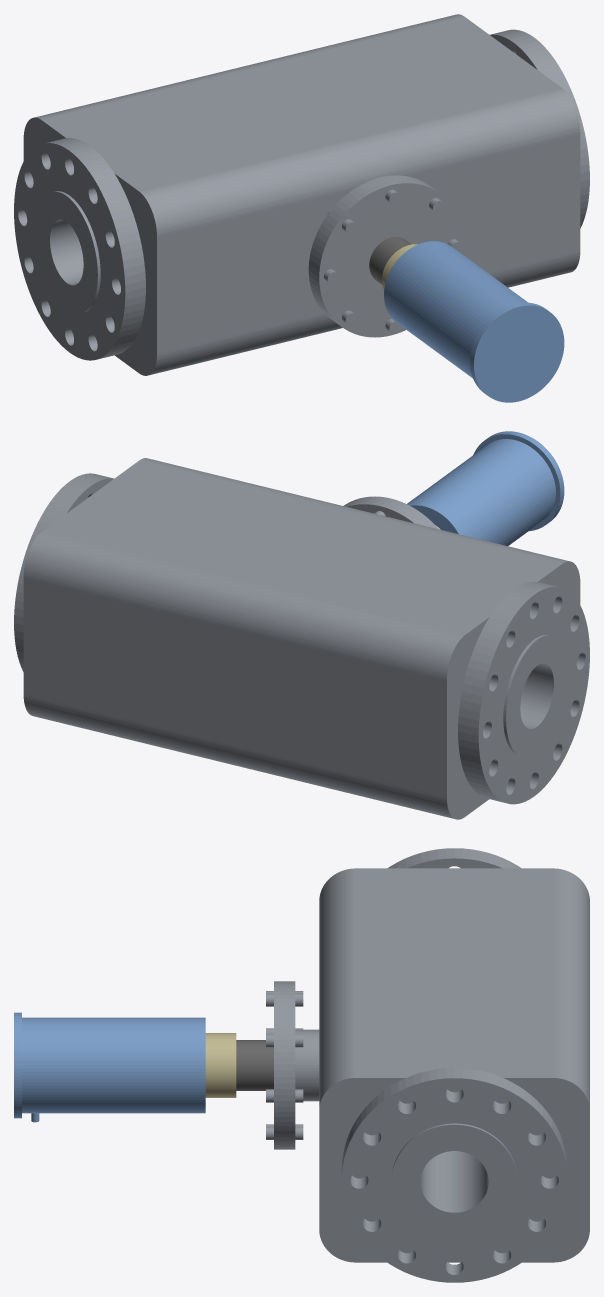
The model's file is WH-GATEVALVE-HYD.glb.
3 views of the same model, one above another, from view 1: azimuth 30°, elevation 25°; view 2: azimuth 150°, elevation 25°; view 3: azimuth 270°, elevation 25° (orthographic).
Visible parts, largest first — view 1: WH-GATEVALVE-BODY, WH-GATEVALVE-FLANGE-IN, WH-GATEVALVE-ACTUATOR, WH-GATEVALVE-BONNET, WH-GATEVALVE-FLANGE-OUT, WH-GATEVALVE-PACKING; view 2: WH-GATEVALVE-BODY, WH-GATEVALVE-FLANGE-IN, WH-GATEVALVE-ACTUATOR, WH-GATEVALVE-FLANGE-OUT, WH-GATEVALVE-BONNET; view 3: WH-GATEVALVE-BODY, WH-GATEVALVE-FLANGE-OUT, WH-GATEVALVE-ACTUATOR, WH-GATEVALVE-BONNET, WH-GATEVALVE-BEARING, WH-GATEVALVE-FLANGE-IN, WH-GATEVALVE-PACKING.
Part boxes in pixels (x1=…): WH-GATEVALVE-BODY: x1=23, y1=14, x2=580, y2=375; WH-GATEVALVE-FLANGE-IN: x1=14, y1=138, x2=145, y2=360; WH-GATEVALVE-ACTUATOR: x1=384, y1=241, x2=564, y2=402; WH-GATEVALVE-BONNET: x1=308, y1=175, x2=462, y2=337; WH-GATEVALVE-FLANGE-OUT: x1=490, y1=29, x2=589, y2=228; WH-GATEVALVE-PACKING: x1=369, y1=237, x2=411, y2=284; WH-GATEVALVE-BODY: x1=23, y1=458, x2=580, y2=819; WH-GATEVALVE-FLANGE-IN: x1=458, y1=581, x2=589, y2=804; WH-GATEVALVE-ACTUATOR: x1=407, y1=431, x2=564, y2=545; WH-GATEVALVE-FLANGE-OUT: x1=14, y1=473, x2=113, y2=671; WH-GATEVALVE-BONNET: x1=343, y1=496, x2=438, y2=529; WH-GATEVALVE-BODY: x1=295, y1=868, x2=589, y2=1262; WH-GATEVALVE-FLANGE-OUT: x1=341, y1=1068, x2=567, y2=1282; WH-GATEVALVE-ACTUATOR: x1=14, y1=1012, x2=205, y2=1122; WH-GATEVALVE-BONNET: x1=266, y1=981, x2=303, y2=1149; WH-GATEVALVE-BEARING: x1=205, y1=1033, x2=236, y2=1097; WH-GATEVALVE-FLANGE-IN: x1=388, y1=848, x2=521, y2=868; WH-GATEVALVE-PACKING: x1=236, y1=1040, x2=273, y2=1090.
Bounding box in the file's own units: 1.05 × 0.4315 × 1.1.
